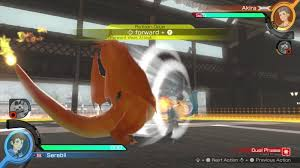charizard: (3, 20, 158, 154)
